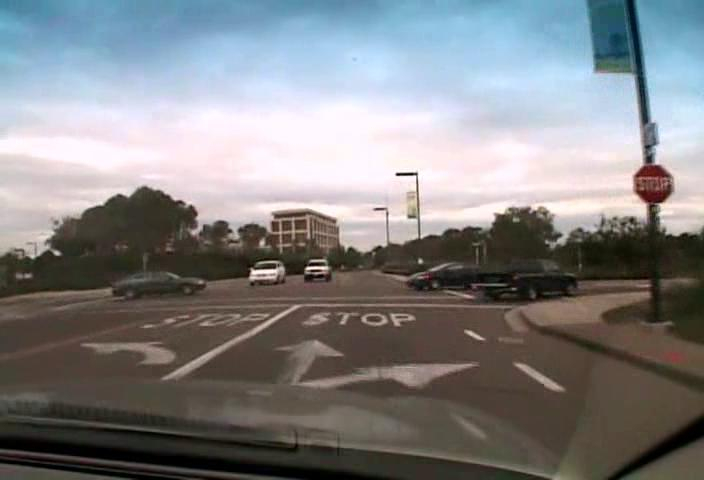stop: (632, 163, 674, 203)
